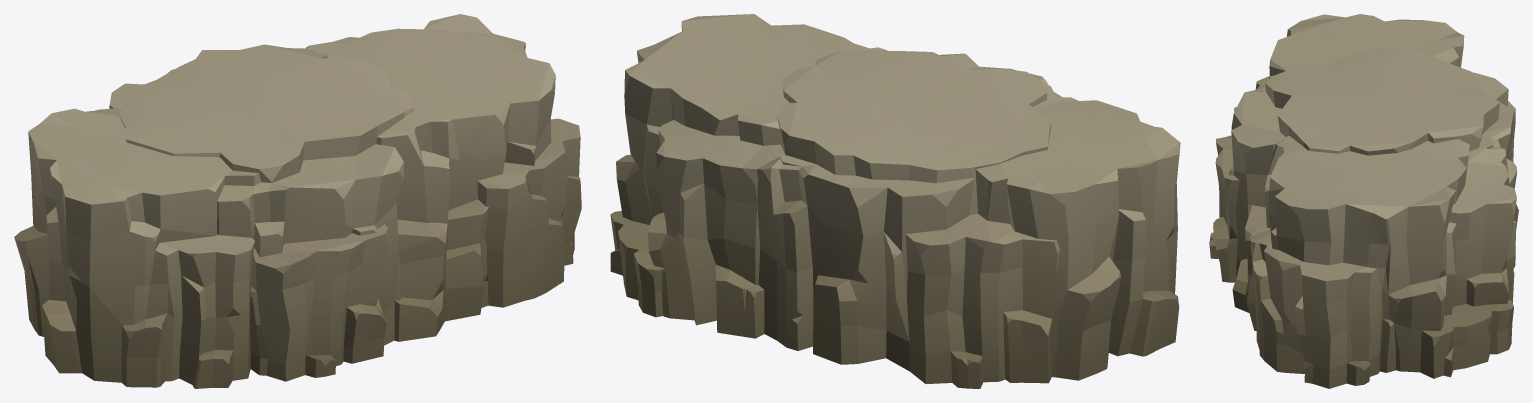
The model's file is Rock_Big_04.fbx.
3 views of the same model, side by side, from view 1: azimuth 30°, elevation 25°; view 2: azimuth 150°, elevation 25°; view 3: azimuth 270°, elevation 25° (orthographic). The views are drawn at different scales.
Visible parts, largest first — view 1: Rock_Big_04; view 2: Rock_Big_04; view 3: Rock_Big_04.
Boxes of the visible parts, x1,y1,x2,y2 form: Rock_Big_04: (14,14,581,388); Rock_Big_04: (610,14,1180,388); Rock_Big_04: (1209,14,1518,388).
Bounding box in the file's own units: 6656 × 2419 × 3939.
